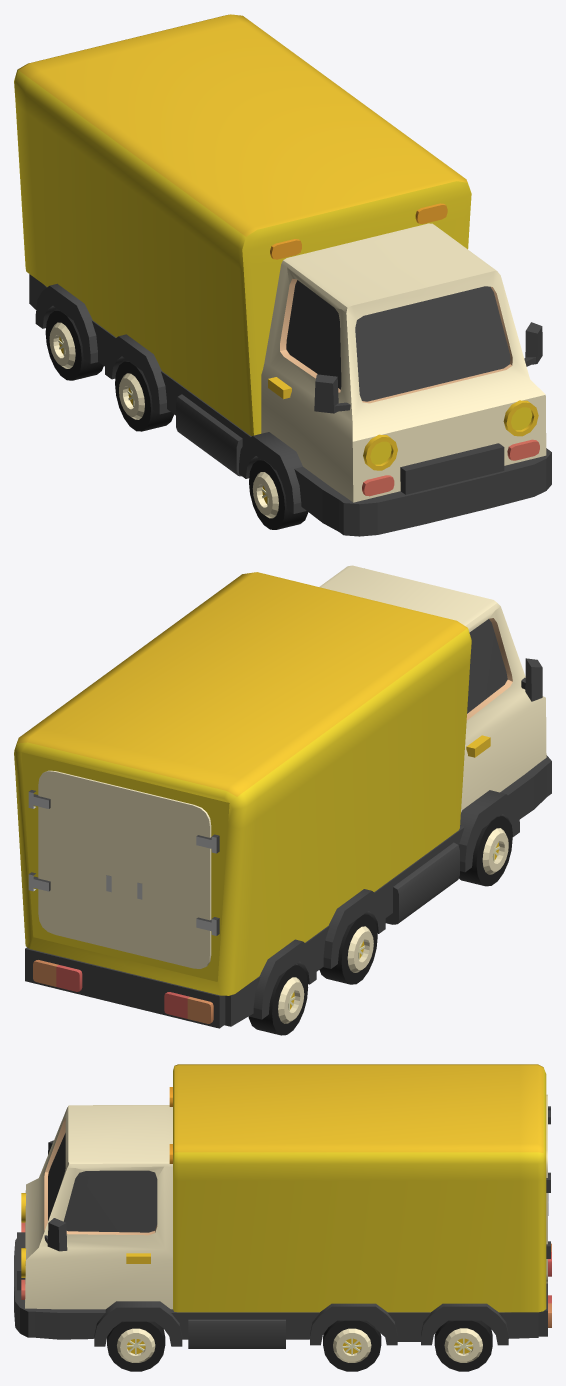
The model's file is Gold_Big_Truck.fbx.
The picture shows the model from 3 angles, top to bottom: view 1: azimuth 30°, elevation 25°; view 2: azimuth 150°, elevation 25°; view 3: azimuth 270°, elevation 25°; orthographic projection. The views are drawn at different scales.
Visible parts, largest first — view 1: Gold_Big_Truck, Gold_Big_Truck_Wheel2, Gold_Big_Truck_Wheel3, Gold_Big_Truck_Wheel; view 2: Gold_Big_Truck, Back_Right_Door004, Back_Left_Door004, Gold_Big_Truck_Wheel2, Gold_Big_Truck_Wheel3, Gold_Big_Truck_Wheel; view 3: Gold_Big_Truck, Gold_Big_Truck_Wheel3, Gold_Big_Truck_Wheel2, Gold_Big_Truck_Wheel, Back_Left_Door004.
Part boxes in pixels (x1,y1,x2,y2): Gold_Big_Truck: [14, 14, 551, 536]; Gold_Big_Truck_Wheel2: [115, 360, 173, 431]; Gold_Big_Truck_Wheel3: [45, 310, 103, 380]; Gold_Big_Truck_Wheel: [249, 459, 308, 529]; Gold_Big_Truck: [14, 565, 551, 1028]; Back_Right_Door004: [124, 788, 219, 968]; Back_Left_Door004: [28, 770, 124, 951]; Gold_Big_Truck_Wheel2: [319, 913, 377, 984]; Gold_Big_Truck_Wheel3: [248, 964, 308, 1035]; Gold_Big_Truck_Wheel: [459, 815, 512, 886]; Gold_Big_Truck: [14, 1064, 551, 1348]; Gold_Big_Truck_Wheel3: [434, 1320, 492, 1371]; Gold_Big_Truck_Wheel2: [323, 1320, 381, 1371]; Gold_Big_Truck_Wheel: [107, 1321, 165, 1371]; Back_Left_Door004: [546, 1123, 550, 1283].
Bounding box in the file's own units: 269 × 305 × 665.
